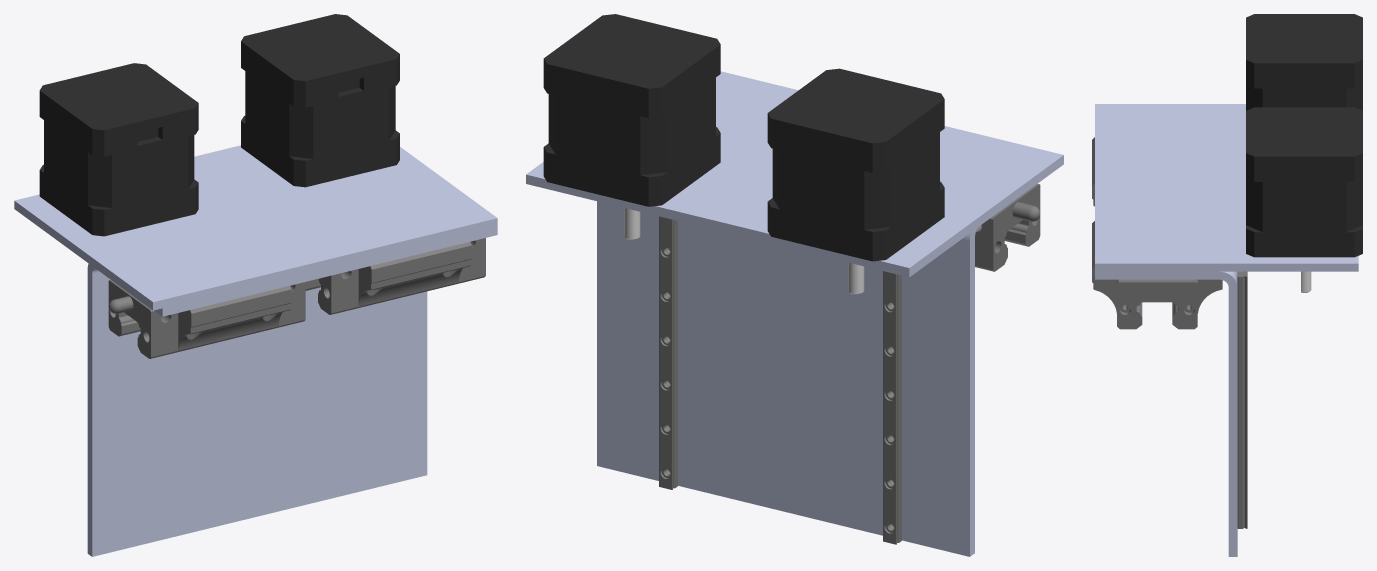
The model's file is toolhead_carriage.glb.
3 renders of one model, left to right at view 1: azimuth 30°, elevation 25°; view 2: azimuth 150°, elevation 25°; view 3: azimuth 270°, elevation 25°, orthographic. The views are drawn at different scales.
Parts seen in each view (by area): view 1: toolhead_carriage; view 2: toolhead_carriage; view 3: toolhead_carriage.
Part boxes in pixels (x1,y1,x2,y2): toolhead_carriage: (14,14,497,556); toolhead_carriage: (526,14,1063,556); toolhead_carriage: (1092,14,1362,556).
Size of the model in its own units: 0.1402 by 0.1564 by 0.0974.
